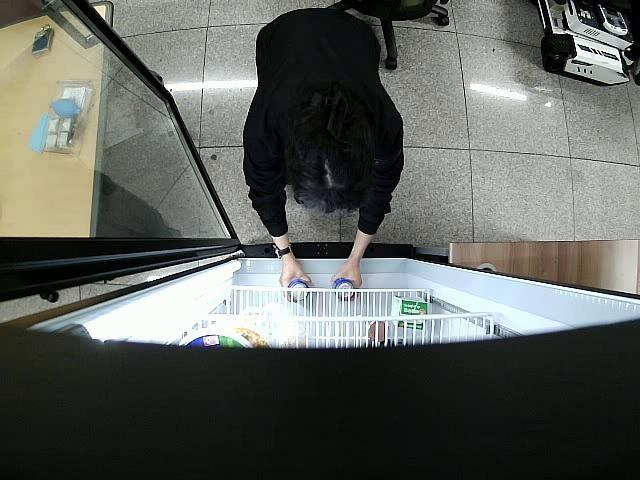13_pocariSweat: (330, 276, 354, 303), (287, 278, 310, 306)
